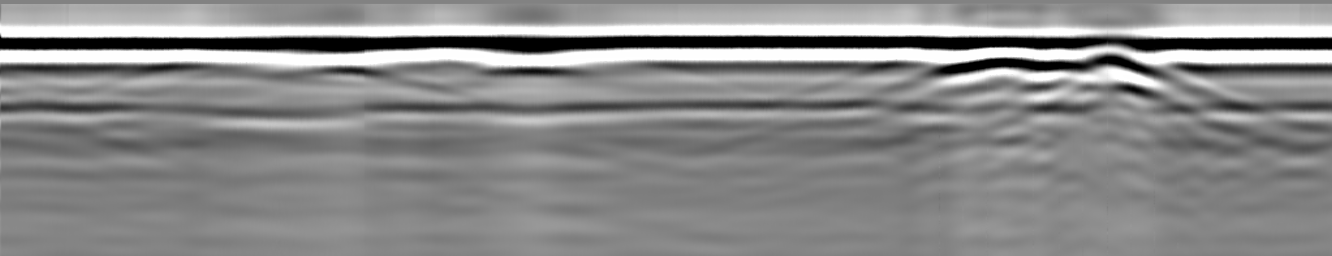pipe: (1052, 36, 1169, 78)
